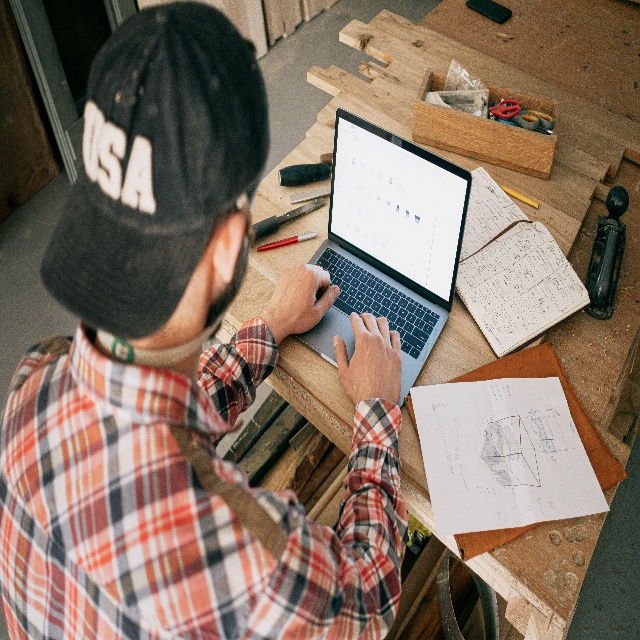Sin_guantes: (333, 311, 403, 407), (269, 262, 339, 337)
